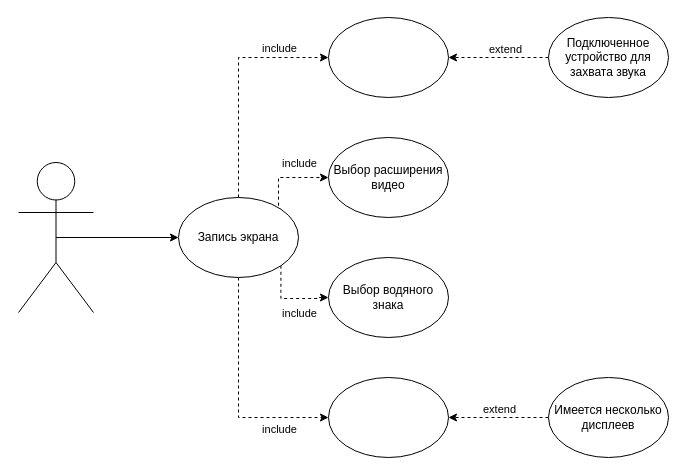
This 686x475 diagram has some shape labels left out. Here are the shapes that lost their labels. From the top down, the box of each, then its label:
(328, 16, 448, 98): Выбор расширения звука
(18, 162, 94, 312): Пользователь
(328, 376, 448, 458): Выбор дисплея
